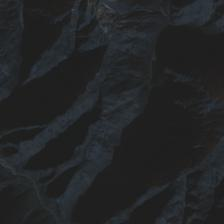landslides: (82, 173, 91, 185)
